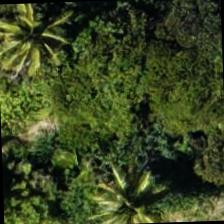Kelapa_Sawit: (0, 1, 75, 81), (76, 160, 170, 223)
